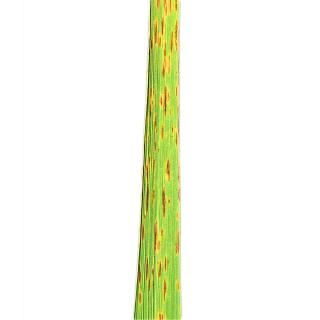Bercak-Cokelat-Sempit: (146, 277, 168, 297), (152, 16, 168, 42), (151, 220, 164, 252), (160, 44, 171, 78), (159, 88, 171, 119), (156, 0, 181, 14), (160, 190, 172, 216), (144, 185, 156, 211), (171, 21, 181, 52), (143, 156, 157, 178), (156, 256, 171, 275), (146, 87, 154, 116), (174, 229, 182, 254), (142, 256, 151, 276), (164, 160, 172, 182), (170, 126, 177, 146), (177, 167, 181, 200), (177, 102, 180, 143), (174, 80, 180, 97), (152, 140, 160, 152), (153, 114, 158, 132), (161, 125, 166, 142), (157, 309, 164, 320), (142, 228, 148, 240), (174, 281, 180, 293)
